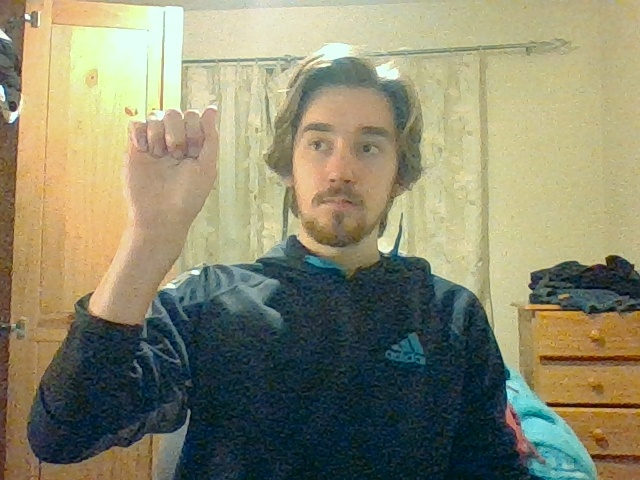your: (122, 104, 221, 221)
